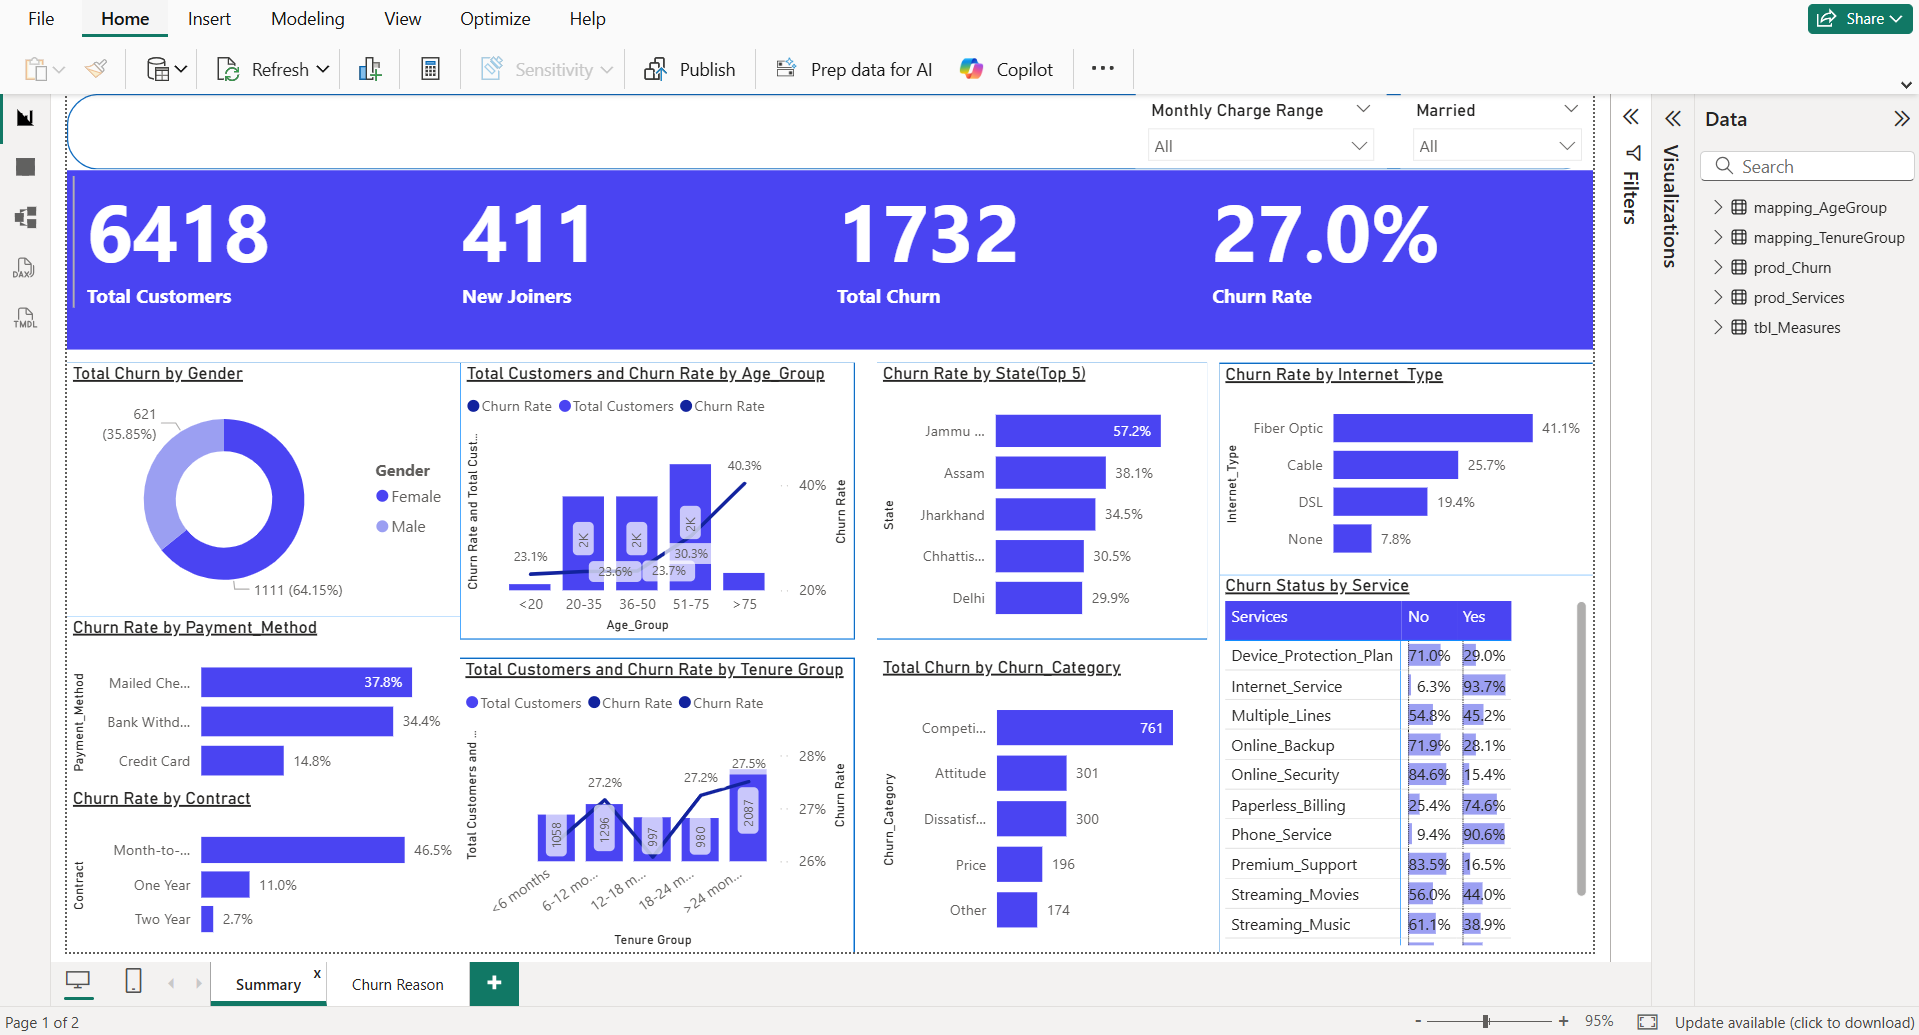

What the dashboard file says about the page in this screenshot:
{"tool":"powerbi","page":{"name":"Summary","canvas":[1280,720],"ordinal":0},"visuals":[{"type":"shape","box":[0,0,1279.9,63.3],"z":0},{"type":"multiRowCard","fields":{"Values":["tbl_Measures.Total Customers","tbl_Measures.New Joiners","tbl_Measures.Total Churn","tbl_Measures.Churn Rate"]},"box":[0,64,1280,150.3],"z":1000},{"type":"shape","box":[0,225.4,660.9,232.3],"z":2000},{"type":"shape","box":[0,473,660.9,247.7],"z":3000},{"type":"shape","box":[967,225.4,313,495.3],"z":4000},{"type":"shape","box":[679,225.4,276.9,232.3],"z":5000},{"type":"shape","box":[679,473,276.9,247.7],"z":6000},{"type":"donutChart","fields":{"Category":["prod_Churn.Gender"],"Y":["tbl_Measures.Total Churn"]},"box":[0,225.4,329.7,212.9],"z":7000},{"type":"lineStackedColumnComboChart","title":"Total Customers and Churn Rate by Tenure Group","fields":{"Category":["mapping_TenureGroup.Tenure Group"],"Y":["tbl_Measures.Total Customers","tbl_Measures.Churn Rate"],"Y2":["tbl_Measures.Churn Rate"]},"box":[329.3,473.3,330.8,246.6],"z":8000},{"type":"barChart","fields":{"Category":["prod_Churn.Payment_Method"],"Y":["tbl_Measures.Churn Rate"]},"box":[0,438.3,329.7,153],"z":9000},{"type":"barChart","fields":{"Category":["prod_Churn.Contract"],"Y":["tbl_Measures.Churn Rate"]},"box":[0,581.6,329.7,139.1],"z":10000},{"type":"columnChart","box":[679,473,276.9,247.7],"z":11000},{"type":"barChart","fields":{"Category":["prod_Churn.Churn_Category"],"Y":["tbl_Measures.Total Churn"]},"box":[679.4,471.7,278.1,248.8],"z":12000},{"type":"barChart","title":"Churn Rate by State(Top 5) ","fields":{"Category":["prod_Churn.State"],"Y":["tbl_Measures.Churn Rate"]},"box":[679,225.4,276.9,231],"z":13000},{"type":"barChart","fields":{"Y":["tbl_Measures.Churn Rate"],"Category":["prod_Churn.Internet_Type"]},"box":[966.4,226.6,313.6,176.7],"z":14000},{"type":"pivotTable","title":"Churn Status by Service","fields":{"Rows":["prod_Services.Services"],"Columns":["prod_Services.Status"],"Values":["Sum(prod_Services.Churn Status)"]},"box":[966.9,403.7,313.3,315.7],"z":15000},{"type":"lineStackedColumnComboChart","title":"Total Customers and Churn Rate by Age_Group","fields":{"Category":["mapping_AgeGroup.Age_Group"],"Y":["tbl_Measures.Churn Rate","tbl_Measures.Total Customers"],"Y2":["tbl_Measures.Churn Rate"]},"box":[330,225.2,330,230.8],"z":16000},{"type":"slicer","fields":{"Values":["prod_Churn.Monthly Charge Status"]},"box":[895.9,0,210.2,62.5],"z":17000},{"type":"slicer","fields":{"Values":["prod_Churn.Married"]},"box":[1118.1,0,162.1,62.5],"z":18000}]}

Visuals, with their boxes on the page's 1280x720 design canvas (x1, y1, x2, y2). These are canvas units, not pixel positions in the 1919x1035 screenshot, which may show the page scaled, cropped or inside an application window:
shape: select_region(0, 0, 1280, 63)
multiRowCard - tbl_Measures.Total Customers x tbl_Measures.New Joiners: select_region(0, 64, 1280, 214)
shape: select_region(0, 225, 661, 458)
shape: select_region(0, 473, 661, 721)
shape: select_region(967, 225, 1280, 721)
shape: select_region(679, 225, 956, 458)
shape: select_region(679, 473, 956, 721)
donutChart - prod_Churn.Gender x tbl_Measures.Total Churn: select_region(0, 225, 330, 438)
"Total Customers and Churn Rate by Tenure Group" lineStackedColumnComboChart: select_region(329, 473, 660, 720)
barChart - prod_Churn.Payment_Method x tbl_Measures.Churn Rate: select_region(0, 438, 330, 591)
barChart - prod_Churn.Contract x tbl_Measures.Churn Rate: select_region(0, 582, 330, 721)
columnChart: select_region(679, 473, 956, 721)
barChart - prod_Churn.Churn_Category x tbl_Measures.Total Churn: select_region(679, 472, 958, 720)
"Churn Rate by State(Top 5) " barChart: select_region(679, 225, 956, 456)
barChart - tbl_Measures.Churn Rate x prod_Churn.Internet_Type: select_region(966, 227, 1280, 403)
"Churn Status by Service" pivotTable: select_region(967, 404, 1280, 719)
"Total Customers and Churn Rate by Age_Group" lineStackedColumnComboChart: select_region(330, 225, 660, 456)
slicer - prod_Churn.Monthly Charge Status: select_region(896, 0, 1106, 62)
slicer - prod_Churn.Married: select_region(1118, 0, 1280, 62)
